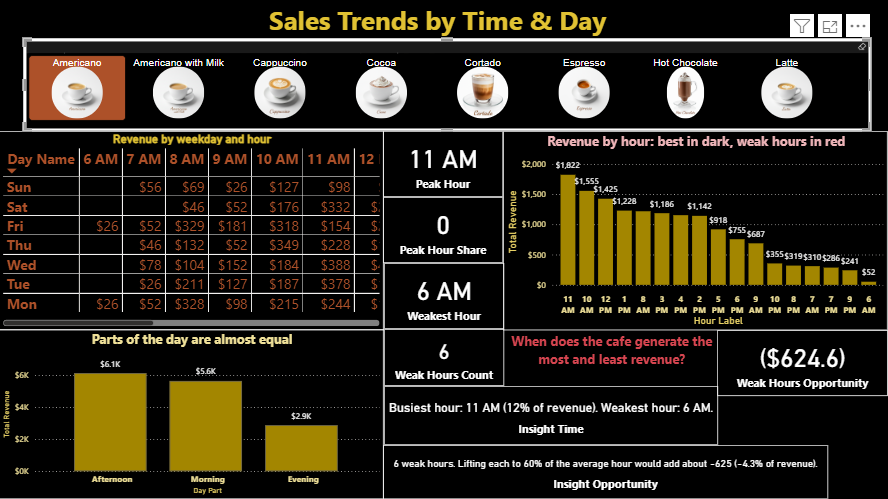

This screenshot's page, from the dashboard's own definition file:
{"tool":"powerbi","page":{"name":"Time & Staffing","canvas":[1280,720],"ordinal":2},"visuals":[{"type":"ChicletSlicer1448559807354","fields":{"Category":["Product.Product"],"Image":["Product.Image URL"]},"box":[34.3,56.5,1221.7,133.7],"z":0},{"type":"pivotTable","title":"Revenue by weekday and hour","fields":{"Columns":["Sales.Hour Label"],"Rows":["Calendar.Day Name"],"Values":["Measures (2).Total Revenue"]},"box":[0,190.1,554.4,286.6],"z":1000},{"type":"clusteredColumnChart","title":"Revenue by hour: best in dark, weak hours in red","fields":{"Category":["Sales.Hour Label"],"Y":["Measures (2).Total Revenue"]},"box":[725.8,190.1,554.4,286.6],"z":2000},{"type":"card","fields":{"Values":["Calendar.Peak Hour"]},"box":[553,190.1,172.8,95],"z":3000},{"type":"card","fields":{"Values":["Calendar.Peak Hour Share"]},"box":[553,285.1,172.8,95],"z":4000},{"type":"card","fields":{"Values":["Calendar.Weakest Hour"]},"box":[554.4,380.2,172.8,95],"z":5000},{"type":"card","fields":{"Values":["Calendar.Weak Hours Count"]},"box":[554.4,475.2,172.8,82.1],"z":6000},{"type":"card","fields":{"Values":["Calendar.Weak Hours Opportunity"]},"box":[1033.9,476.6,246.2,95],"z":7000},{"type":"clusteredColumnChart","title":"Parts of the day are almost equal","fields":{"Category":["Sales.Day Part"],"Y":["Measures (2).Total Revenue"]},"box":[0,475.2,554.4,244.8],"z":8000},{"type":"card","fields":{"Values":["Calendar.Insight Time"]},"box":[554.4,557.3,481,85],"z":9000},{"type":"card","fields":{"Values":["Calendar.Insight Opportunity"]},"box":[553,642.2,640.8,77.8],"z":10000},{"type":"textbox","box":[260.5,0,742,73.7],"z":11000},{"type":"textbox","box":[726.5,474.6,310.1,82.2],"z":11001}]}

Visuals, with their boxes in screenshot pixels (x1, y1, x2, y2), scaled from the page's 1280x720 canvas onto the 888x499 screenshot:
ChicletSlicer1448559807354 - Product.Product x Product.Image URL: left=24, top=39, right=871, bottom=132
"Revenue by weekday and hour" pivotTable: left=0, top=132, right=385, bottom=330
"Revenue by hour: best in dark, weak hours in red" clusteredColumnChart: left=504, top=132, right=887, bottom=330
card - Calendar.Peak Hour: left=384, top=132, right=504, bottom=198
card - Calendar.Peak Hour Share: left=384, top=198, right=504, bottom=263
card - Calendar.Weakest Hour: left=385, top=263, right=504, bottom=329
card - Calendar.Weak Hours Count: left=385, top=329, right=504, bottom=386
card - Calendar.Weak Hours Opportunity: left=717, top=330, right=887, bottom=396
"Parts of the day are almost equal" clusteredColumnChart: left=0, top=329, right=385, bottom=498
card - Calendar.Insight Time: left=385, top=386, right=718, bottom=445
card - Calendar.Insight Opportunity: left=384, top=445, right=828, bottom=498
textbox: left=181, top=0, right=695, bottom=51
textbox: left=504, top=329, right=719, bottom=386
